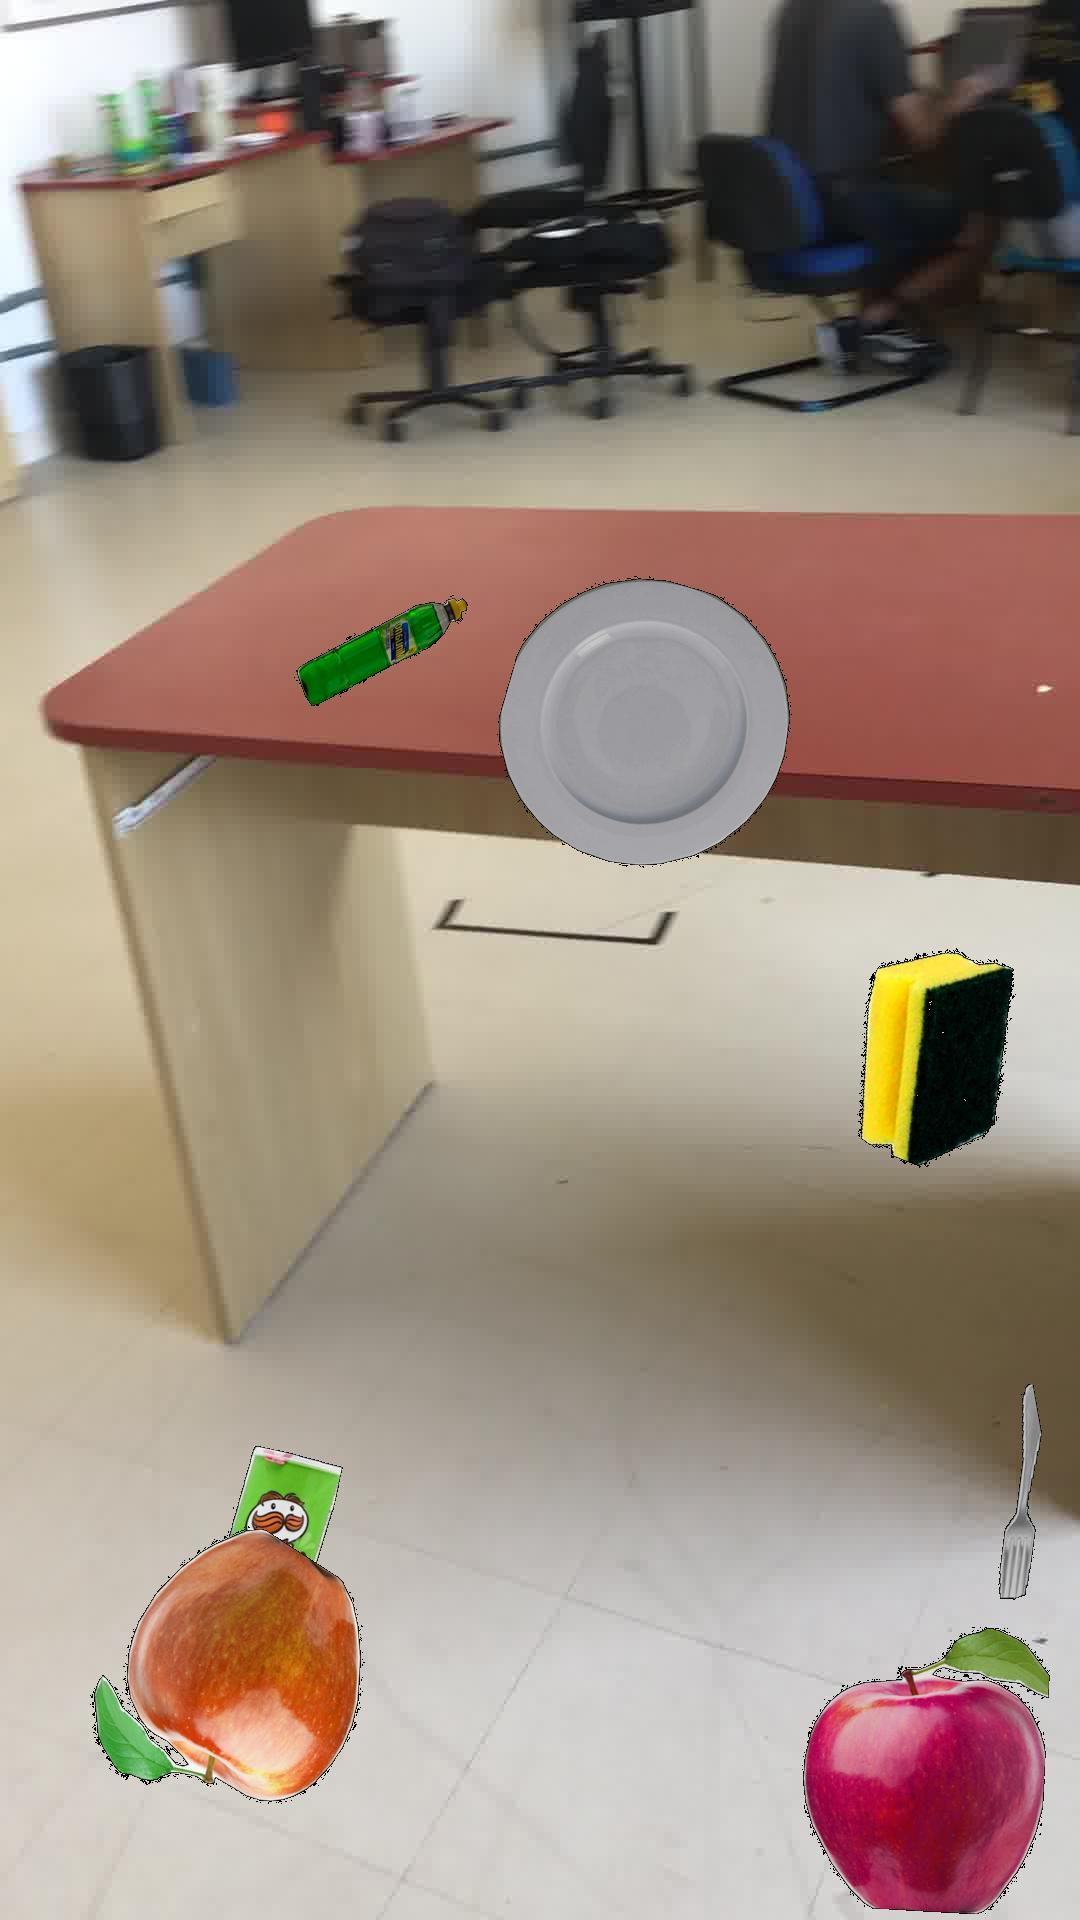apple: (91, 1527, 360, 1800), (802, 1626, 1048, 1912)
cleaner: (294, 596, 465, 704)
fork: (997, 1382, 1040, 1598)
plate: (497, 576, 789, 865)
pringles: (228, 1444, 342, 1561)
sponge: (857, 949, 1013, 1167)
